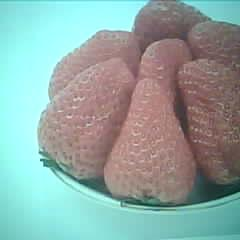straw-ripe: (105, 78, 195, 206), (41, 60, 134, 180), (178, 59, 240, 183)
